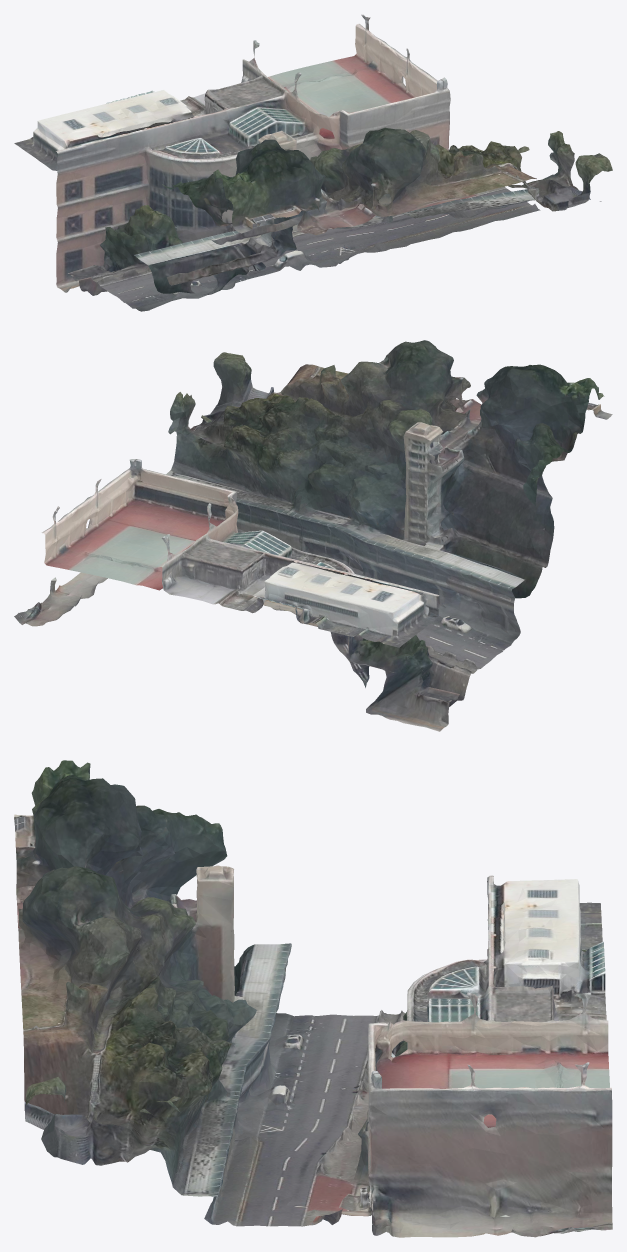
The model's file is Tile_+012_+008_L19_00000130t3.glb.
The picture shows the model from 3 angles, top to bottom: view 1: azimuth 30°, elevation 25°; view 2: azimuth 150°, elevation 25°; view 3: azimuth 270°, elevation 25°; orthographic projection. The views are drawn at different scales.
Visible parts, largest first — view 1: rtc; view 2: rtc; view 3: rtc.
Boxes of the visible parts, box(x1,y1,x2,y2) form: rtc: box(14, 14, 612, 311); rtc: box(14, 340, 612, 731); rtc: box(14, 760, 612, 1237).
Size of the model in its own units: 64.02 by 37.48 by 64.56.
4 materials, 4 textured.
